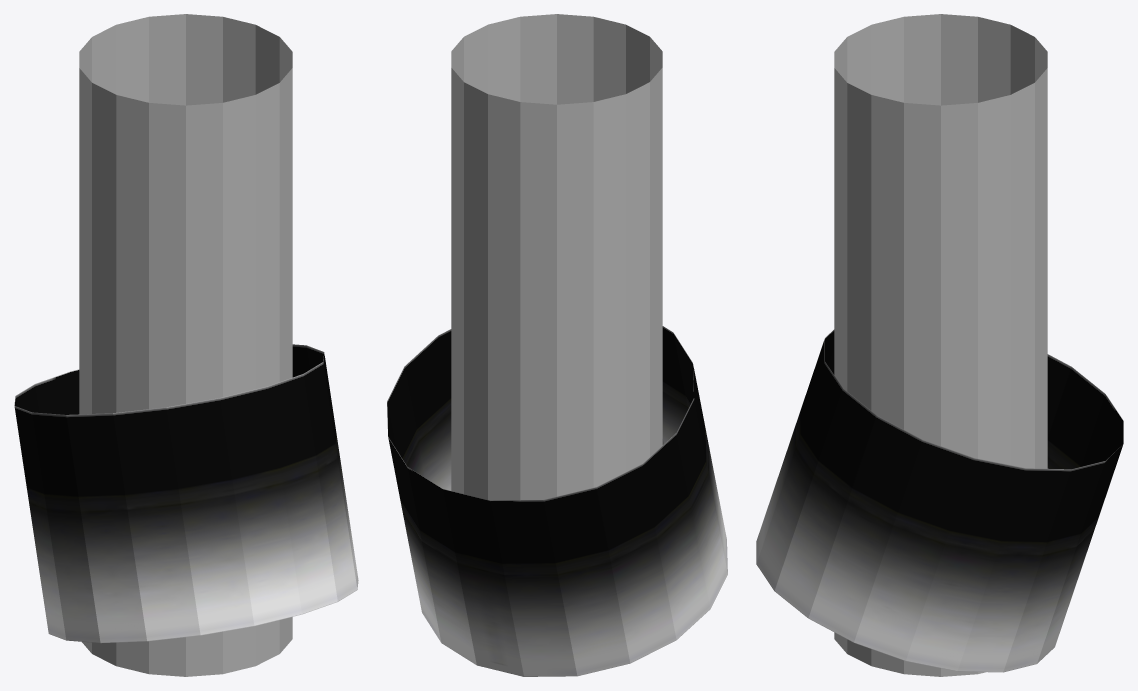
Rendered from effect_xinglingjinhua_donghua #5262380.fbx.
3 renders of one model, left to right at view 1: azimuth 30°, elevation 25°; view 2: azimuth 150°, elevation 25°; view 3: azimuth 270°, elevation 25°, orthographic.
Visible parts, largest first — view 1: effect_yuan_103_mo_UP, effect_yuan_103_mo (1); view 2: effect_yuan_103_mo_UP, effect_yuan_103_mo (1); view 3: effect_yuan_103_mo_UP, effect_yuan_103_mo (1).
Part boxes in pixels (box(x1,y1,x2,y2)): effect_yuan_103_mo_UP: box(79, 14, 292, 676); effect_yuan_103_mo (1): box(14, 344, 358, 643); effect_yuan_103_mo_UP: box(451, 14, 662, 500); effect_yuan_103_mo (1): box(387, 326, 727, 676); effect_yuan_103_mo_UP: box(834, 14, 1047, 676); effect_yuan_103_mo (1): box(756, 329, 1123, 672).
Size of the model in its own units: 3.56 by 7.14 by 4.13.
